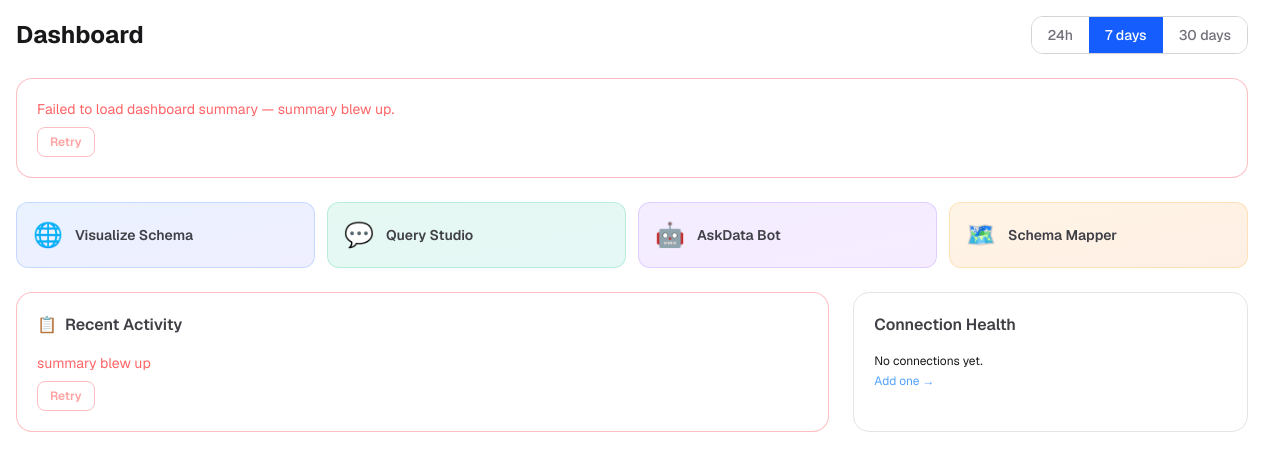
it: DashboardPage › shows an error banner with Retry when the summary fetch fails, and Retry re-fetches
The width and height of the screenshot is (1265, 457).
Check: the text "Failed to load dashboard summary — summary blew up." is shown, box [37, 100, 394, 118]
Step 1. Click the button "Retry" below "Failed to load dashboard summary" → click(66, 142), box [37, 127, 94, 157]
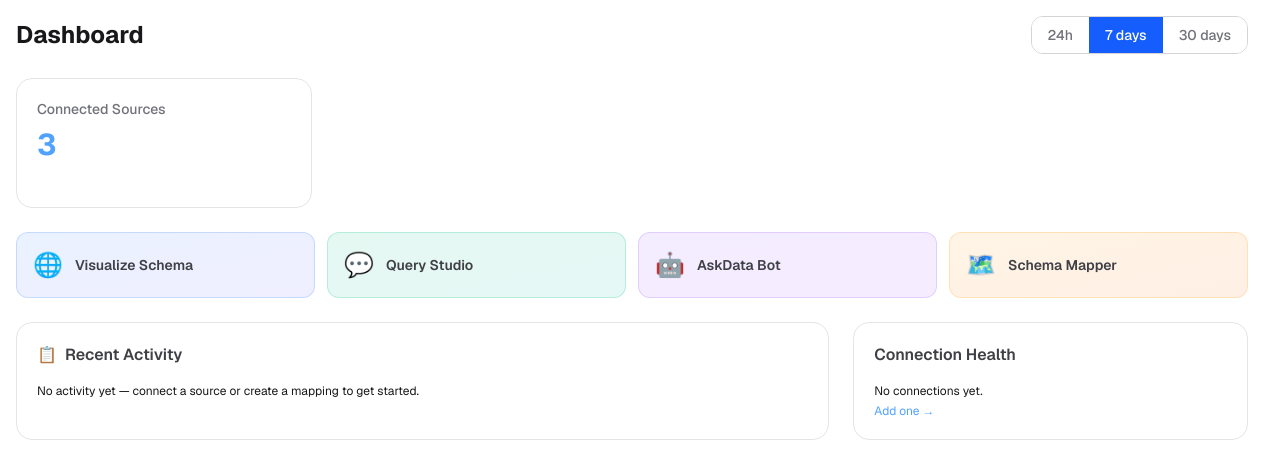
Check: the text "Connected Sources" is shown, box [37, 99, 166, 119]
